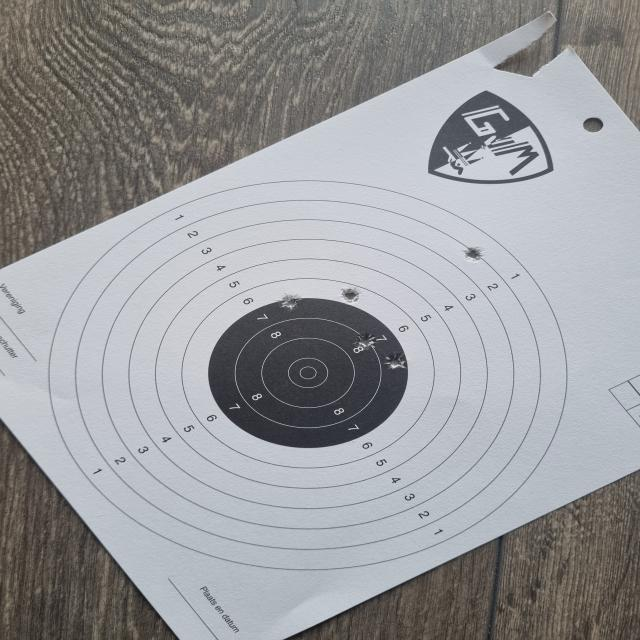2: (463, 247, 482, 261)
6: (341, 288, 359, 303)
7: (276, 294, 302, 310), (385, 354, 407, 369)
8: (354, 333, 376, 349)
Target: (54, 176, 569, 570)
black_contour: (208, 296, 408, 449)
